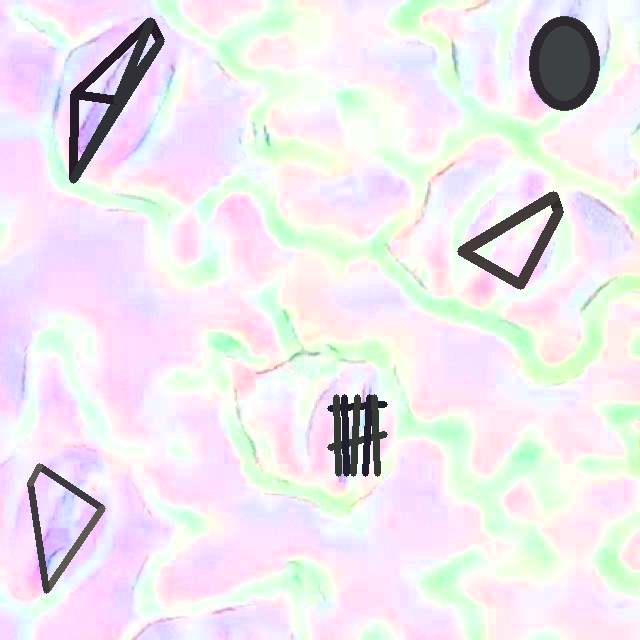close: (457, 191, 563, 289)
open: (70, 17, 164, 183), (28, 463, 104, 593), (529, 16, 598, 110), (327, 394, 387, 476)
